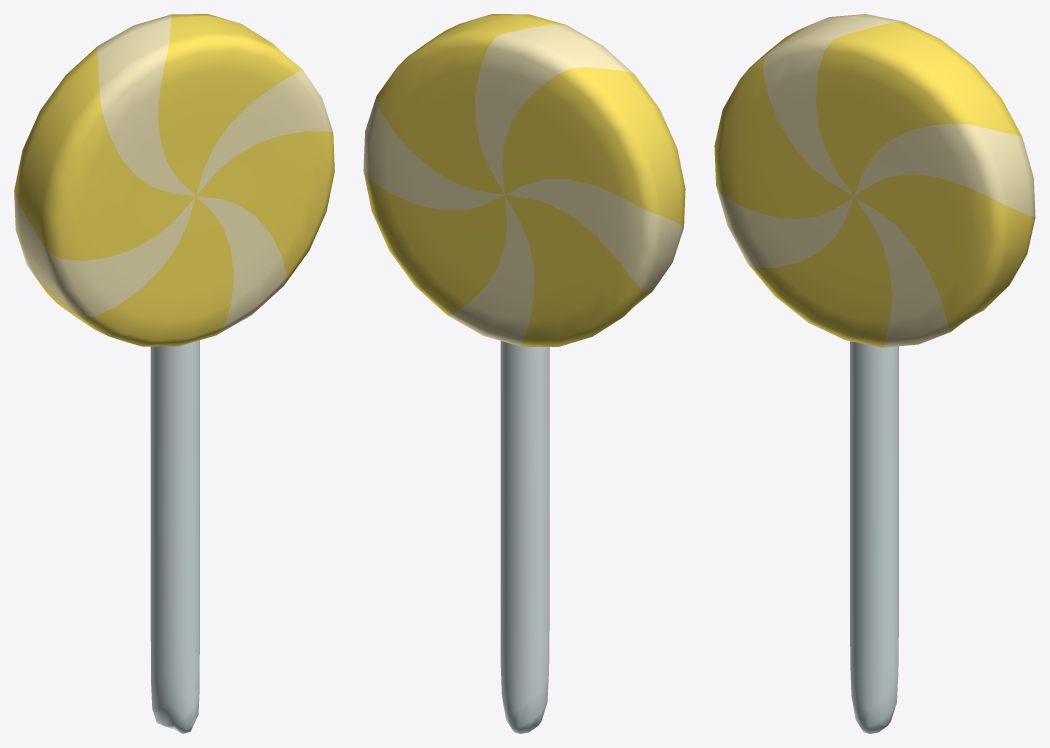
Rendered from Lollipop_B_01.fbx.
The picture shows the model from 3 angles, left to right: view 1: azimuth 30°, elevation 25°; view 2: azimuth 150°, elevation 25°; view 3: azimuth 330°, elevation 25°; orthographic projection.
Parts seen in each view (by area): view 1: Lollipop_B_01_LOD0; view 2: Lollipop_B_01_LOD0; view 3: Lollipop_B_01_LOD0.
Part boxes in pixels (<box>): Lollipop_B_01_LOD0: <box>14,14,334,733</box>; Lollipop_B_01_LOD0: <box>363,14,685,733</box>; Lollipop_B_01_LOD0: <box>714,14,1035,733</box>.
Size of what is drawn, in the model's own units: 503 by 1154 by 124.
